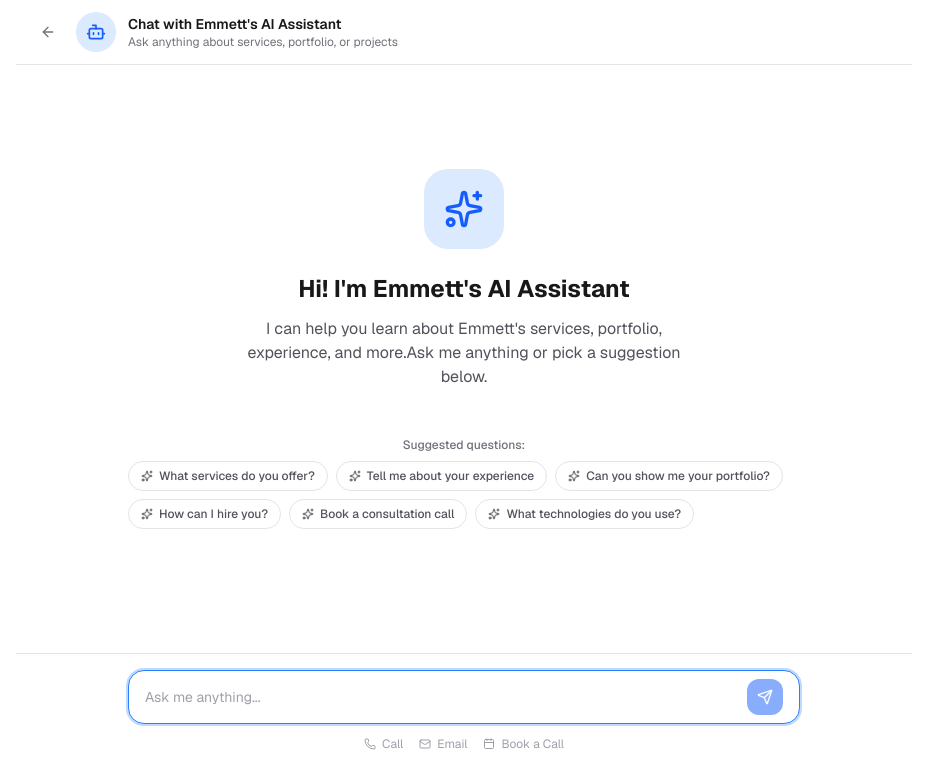
Test: FullPageChat › shows human handoff metadata in streaming
Type "hello" into the field with placeholder "Ask me anything...".
click(442, 697); type("hello")  # box [145, 679, 739, 715]
Then press Enter
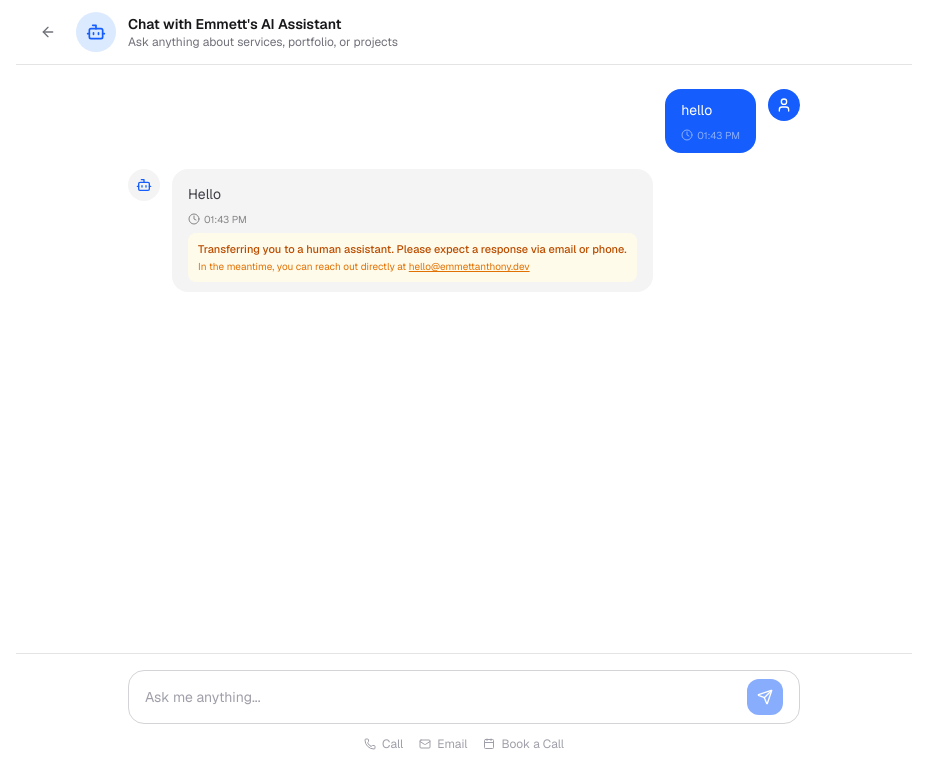
Result: the text "Hello" is shown at [188, 185, 221, 203]
